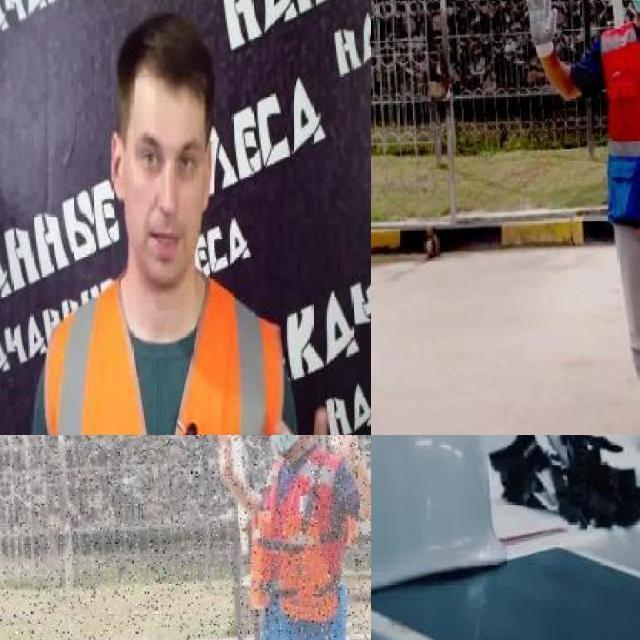apron: (525, 0, 560, 61)
